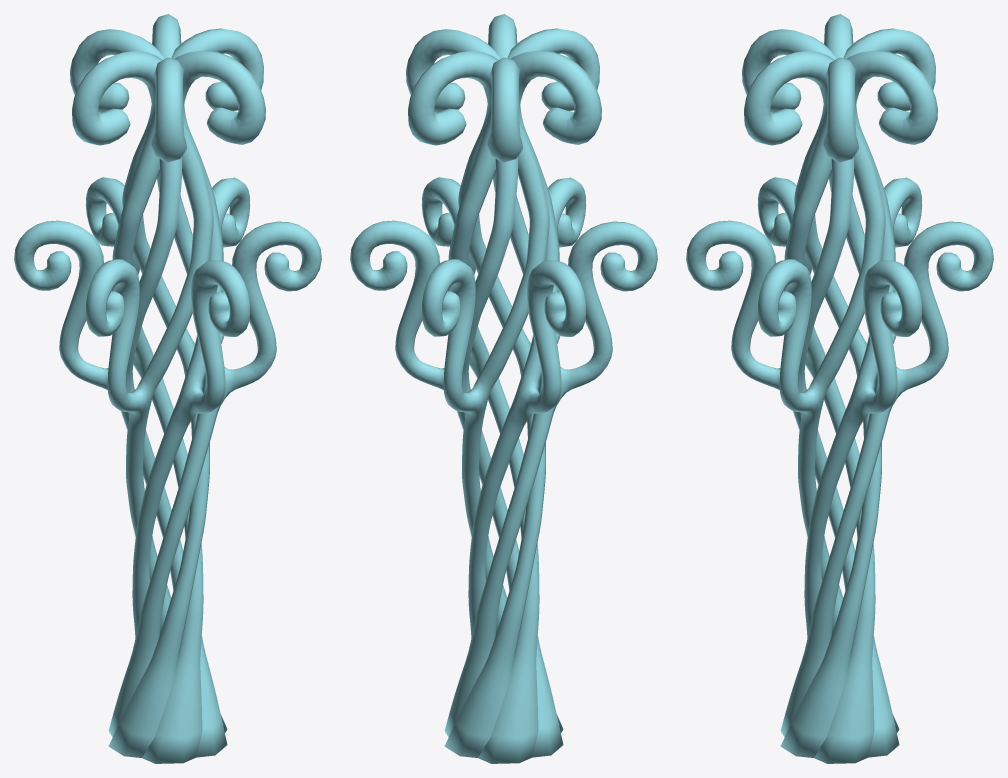
Rendered from Swirled Pillar_2.fbx.
3 renders of one model, left to right at view 1: azimuth 30°, elevation 25°; view 2: azimuth 150°, elevation 25°; view 3: azimuth 270°, elevation 25°, orthographic.
Parts seen in each view (by area): view 1: Plane.047; view 2: Plane.047; view 3: Plane.047.
Part boxes in pixels (box(x1,y1,x2,y2)): Plane.047: box(14, 14, 321, 763); Plane.047: box(350, 14, 657, 763); Plane.047: box(686, 14, 993, 763).
Bounding box in the file's own units: 10.14 × 28.89 × 11.58.
